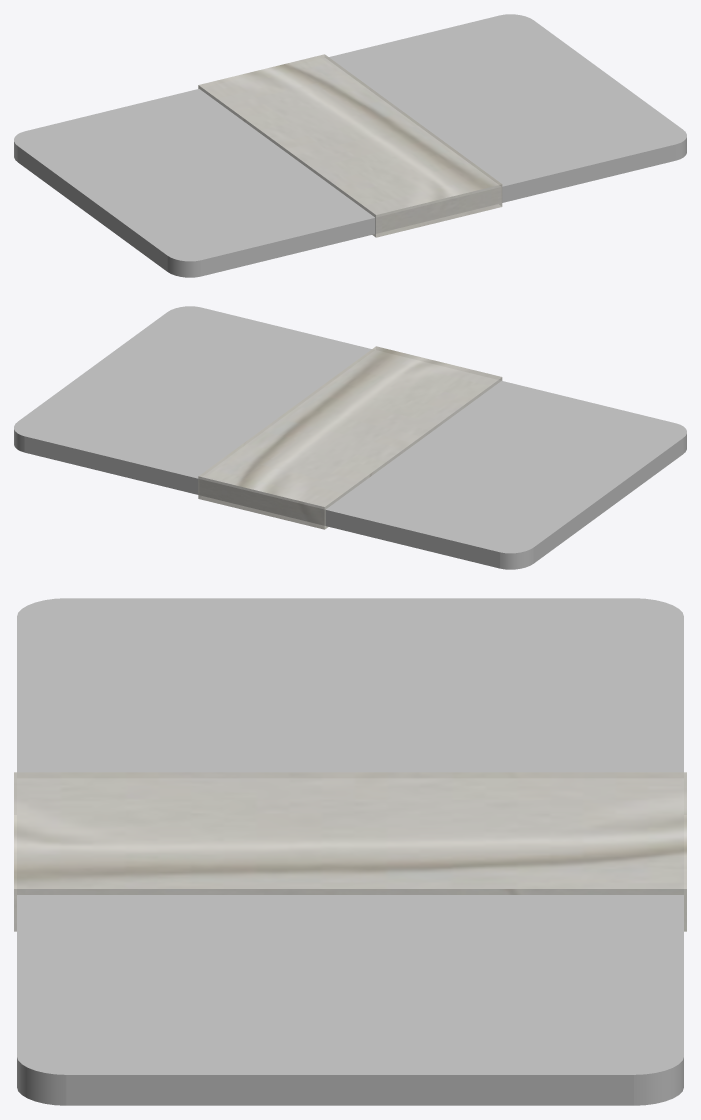
File: CartãoComFita.fbx
3 renders of one model, top to bottom at view 1: azimuth 30°, elevation 25°; view 2: azimuth 150°, elevation 25°; view 3: azimuth 270°, elevation 25°, orthographic. The views are drawn at different scales.
Visible parts, largest first — view 1: Cube, Cube.001; view 2: Cube, Cube.001; view 3: Cube, Cube.001.
Boxes of the visible parts, x1=… form: Cube: x1=14, y1=14, x2=686, y2=277; Cube.001: x1=198, y1=54, x2=502, y2=237; Cube: x1=14, y1=306, x2=686, y2=569; Cube.001: x1=198, y1=346, x2=502, y2=529; Cube: x1=17, y1=598, x2=683, y2=1105; Cube.001: x1=14, y1=772, x2=686, y2=931.
Bounding box in the file's own units: 817 × 34.23 × 487.
